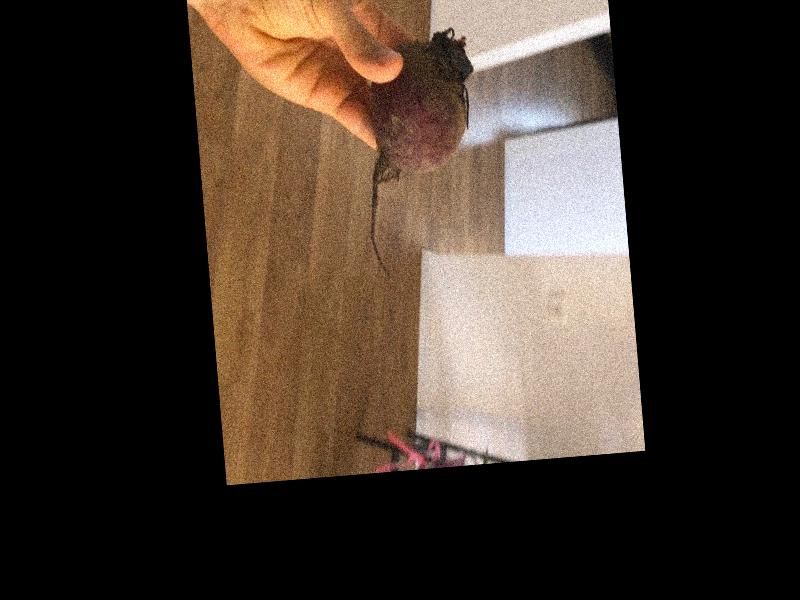Beet: (355, 29, 488, 281)
